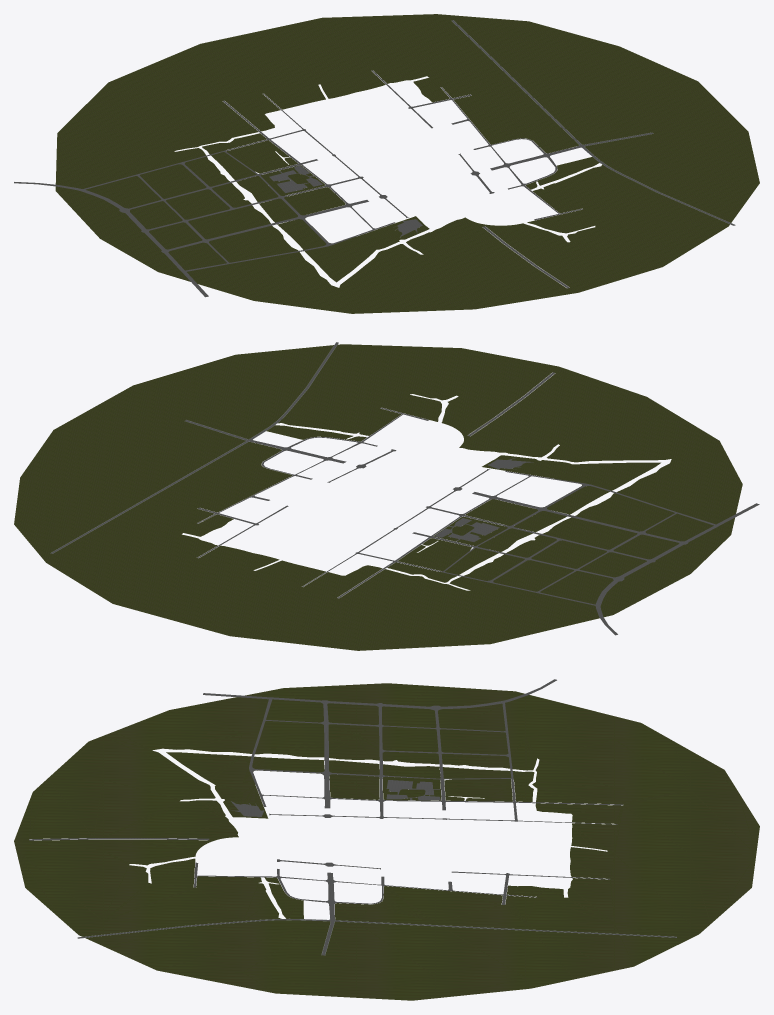
The model's file is dimian01.FBX.
The picture shows the model from 3 angles, top to bottom: view 1: azimuth 30°, elevation 25°; view 2: azimuth 150°, elevation 25°; view 3: azimuth 270°, elevation 25°; orthographic projection. The views are drawn at different scales.
Parts seen in each view (by area): view 1: zhoubian05, zhoubian02, Object001; view 2: zhoubian05, zhoubian02, Object001; view 3: zhoubian05, zhoubian02, Object001.
Part boxes in pixels (<box>): zhoubian05: <box>55,14,759,313</box>; zhoubian02: <box>14,70,582,297</box>; Object001: <box>451,20,735,225</box>; zhoubian05: <box>14,344,742,650</box>; zhoubian02: <box>197,372,759,635</box>; Object001: <box>50,342,338,553</box>; zhoubian05: <box>14,683,759,1000</box>; zhoubian02: <box>29,679,622,918</box>; Object001: <box>77,918,676,955</box>.
Size of the model in its own units: 754561 by 47.16 by 739951.
